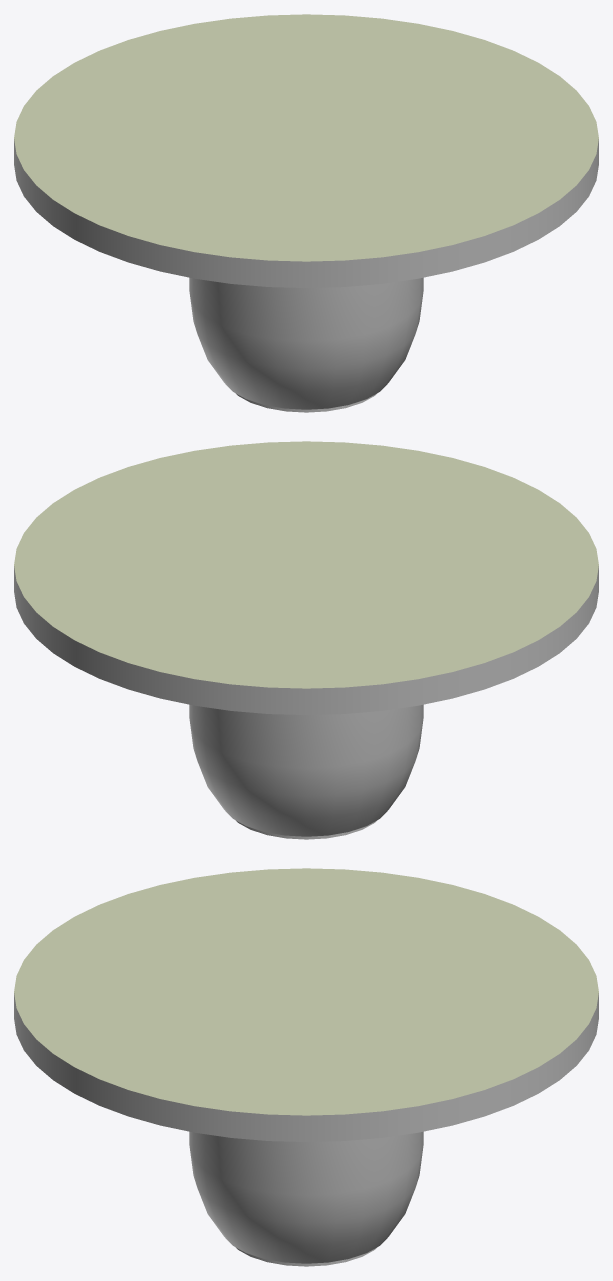
File: RLV_Mount_2.obj
The picture shows the model from 3 angles, top to bottom: view 1: azimuth 30°, elevation 25°; view 2: azimuth 150°, elevation 25°; view 3: azimuth 270°, elevation 25°; orthographic projection.
Parts seen in each view (by area): view 1: RLV_Mount_2_default, RLV_Mount_2_RLV_Mount_2_auv; view 2: RLV_Mount_2_default, RLV_Mount_2_RLV_Mount_2_auv; view 3: RLV_Mount_2_default, RLV_Mount_2_RLV_Mount_2_auv.
Boxes of the visible parts, bbox=[...] form: RLV_Mount_2_default: bbox=[14, 14, 598, 261]; RLV_Mount_2_RLV_Mount_2_auv: bbox=[14, 139, 598, 412]; RLV_Mount_2_default: bbox=[14, 441, 598, 688]; RLV_Mount_2_RLV_Mount_2_auv: bbox=[14, 566, 598, 839]; RLV_Mount_2_default: bbox=[14, 868, 598, 1115]; RLV_Mount_2_RLV_Mount_2_auv: bbox=[14, 993, 598, 1266].
Bounding box in the file's own units: 5 × 2.28 × 5.
